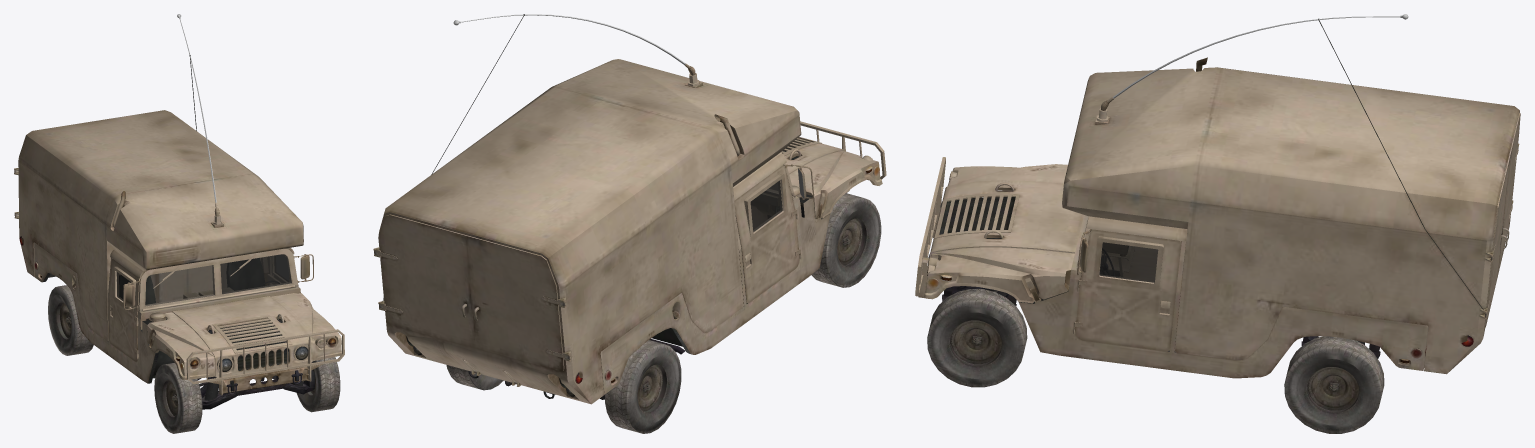
3 views of the same model, side by side, from view 1: azimuth 30°, elevation 25°; view 2: azimuth 150°, elevation 25°; view 3: azimuth 270°, elevation 25° (orthographic). The views are drawn at different scales.
Visible parts, largest first — view 1: Object_28, Object_22, Object_4, Object_16, Object_19, Object_25; view 2: Object_28, Object_22, Object_4, Object_16, Object_25; view 3: Object_28, Object_22, Object_4, Object_16, Object_25.
Boxes of the visible parts, left/top/right/bottom form: Object_28: left=14, top=55, right=341, bottom=409; Object_22: left=48, top=258, right=340, bottom=433; Object_4: left=116, top=254, right=291, bottom=307; Object_16: left=186, top=329, right=344, bottom=395; Object_19: left=19, top=236, right=335, bottom=400; Object_25: left=177, top=14, right=216, bottom=202; Object_28: left=373, top=14, right=882, bottom=404; Object_22: left=446, top=193, right=881, bottom=433; Object_4: left=750, top=180, right=782, bottom=232; Object_16: left=800, top=121, right=886, bottom=192; Object_25: left=453, top=14, right=685, bottom=64; Object_28: left=922, top=18, right=1520, bottom=378; Object_22: left=927, top=242, right=1384, bottom=433; Object_4: left=1099, top=242, right=1158, bottom=282; Object_16: left=915, top=157, right=945, bottom=298; Object_25: left=1113, top=14, right=1408, bottom=98.
Bounding box in the file's own units: 8.71 × 12.66 × 16.89.
Materials: 9 (6 with a texture image).
